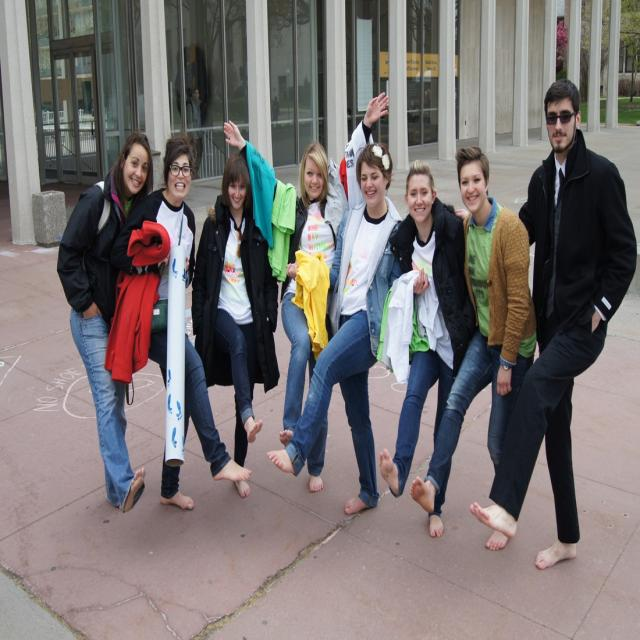body: (466, 73, 640, 572), (221, 89, 390, 493), (100, 134, 254, 513), (264, 138, 410, 517), (408, 143, 538, 552), (53, 128, 156, 515), (376, 154, 477, 538), (186, 150, 280, 500), (184, 87, 205, 181), (424, 85, 434, 123), (271, 94, 279, 122)
